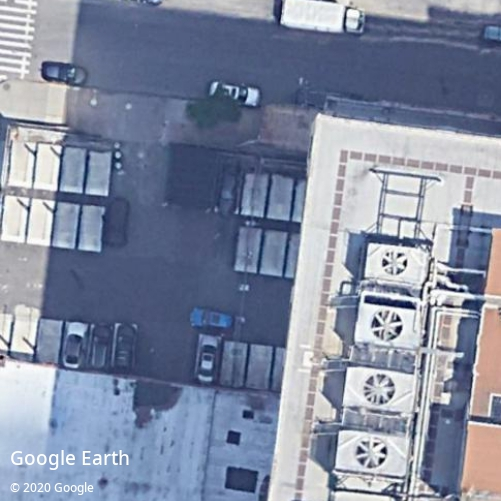Vent: (364, 373, 395, 405), (356, 437, 388, 468), (371, 310, 403, 340), (382, 250, 408, 276)
